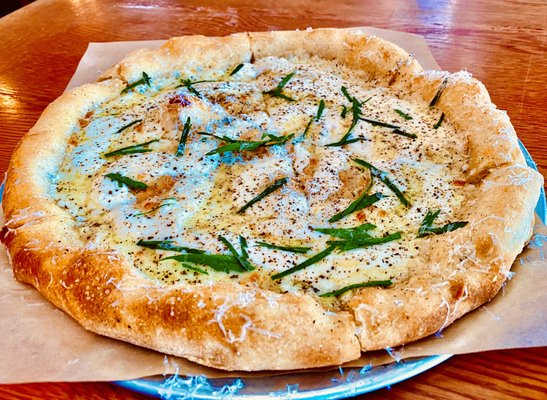curry: (23, 3, 547, 400)
sandwich: (1, 28, 542, 374)
